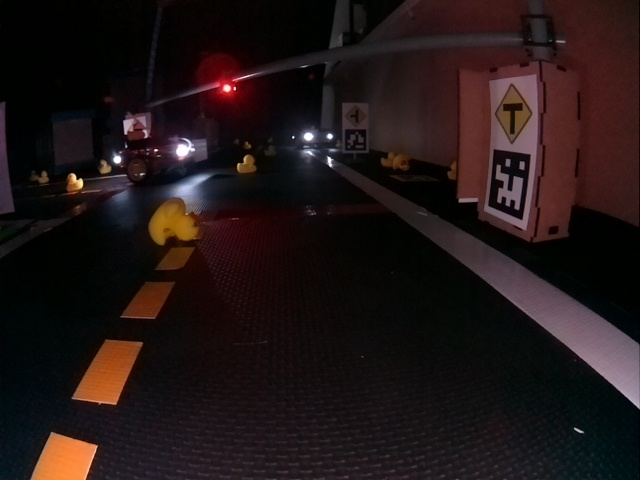Duckie: (151, 198, 198, 241), (237, 155, 256, 171), (67, 174, 82, 191), (394, 155, 407, 170), (381, 153, 396, 166)
Duckiebot: (125, 139, 193, 180), (294, 129, 336, 148)
Intersection sign: (495, 84, 534, 140), (344, 103, 368, 125)
QR code: (487, 150, 531, 221), (343, 130, 369, 151)
Traffic light: (220, 74, 237, 96)
